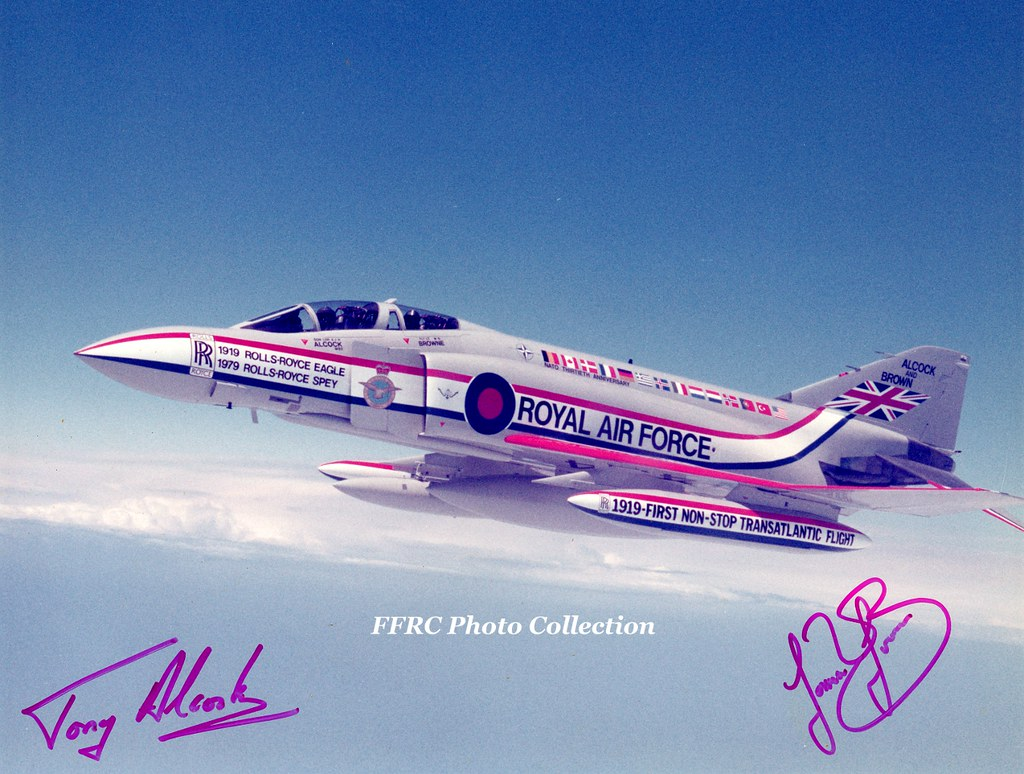F4: (73, 297, 1024, 555)
